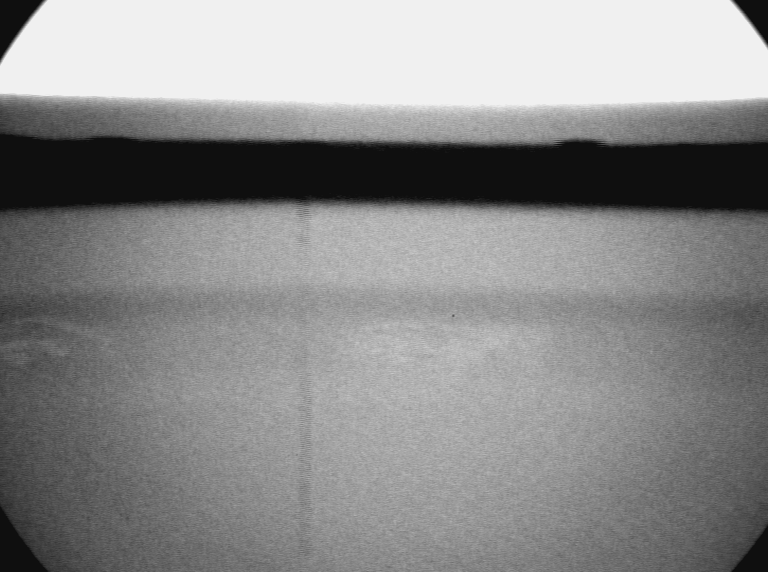defect: (339, 314, 554, 384)
